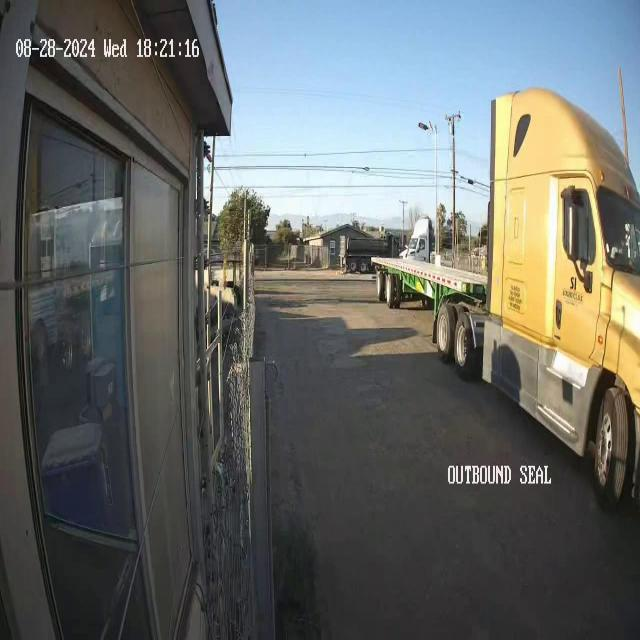TRUCK_IN: (371, 67, 639, 508)
